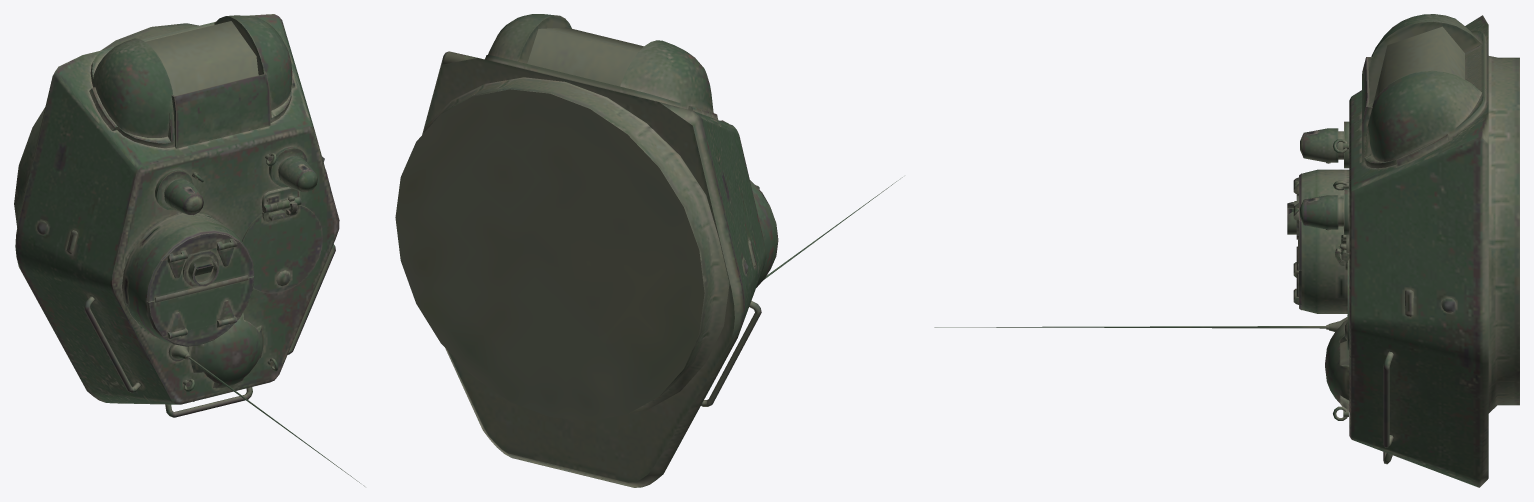
The model's file is Turret_02.glb.
3 renders of one model, left to right at view 1: azimuth 30°, elevation 25°; view 2: azimuth 150°, elevation 25°; view 3: azimuth 270°, elevation 25°, orthographic. The views are drawn at different scales.
Parts seen in each view (by area): view 1: set_0_group_0; view 2: set_0_group_0; view 3: set_0_group_0.
Part boxes in pixels (<box>): set_0_group_0: <box>14,14,364,486</box>; set_0_group_0: <box>395,14,902,487</box>; set_0_group_0: <box>934,14,1519,487</box>.
Bounding box in the file's own units: 1.85 × 2.19 × 2.82.
Materials: 1 (1 with a texture image).
